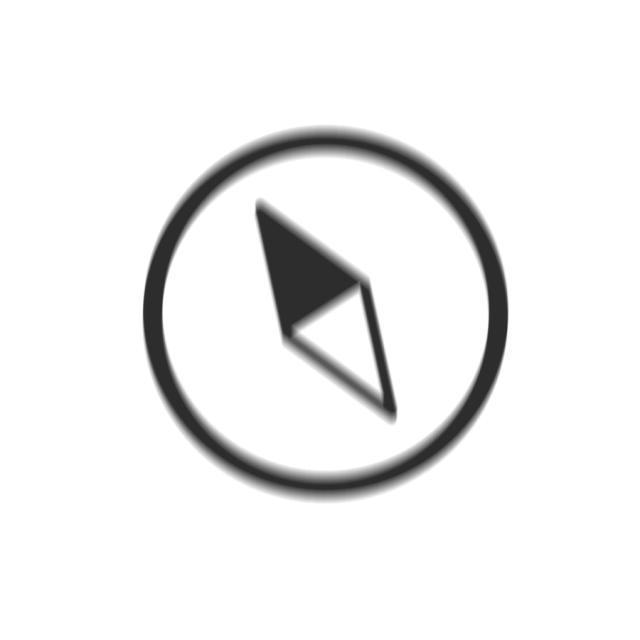compass: (136, 122, 515, 512)
